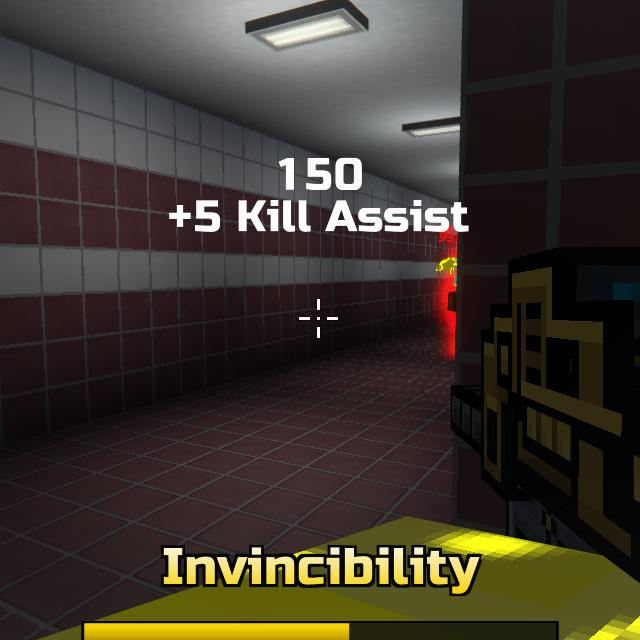Enemy: (445, 260, 455, 360)
